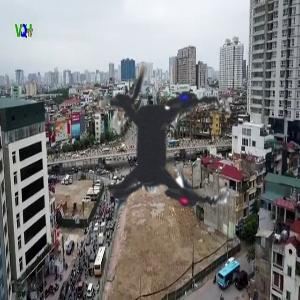drone: (17, 1, 300, 284)
